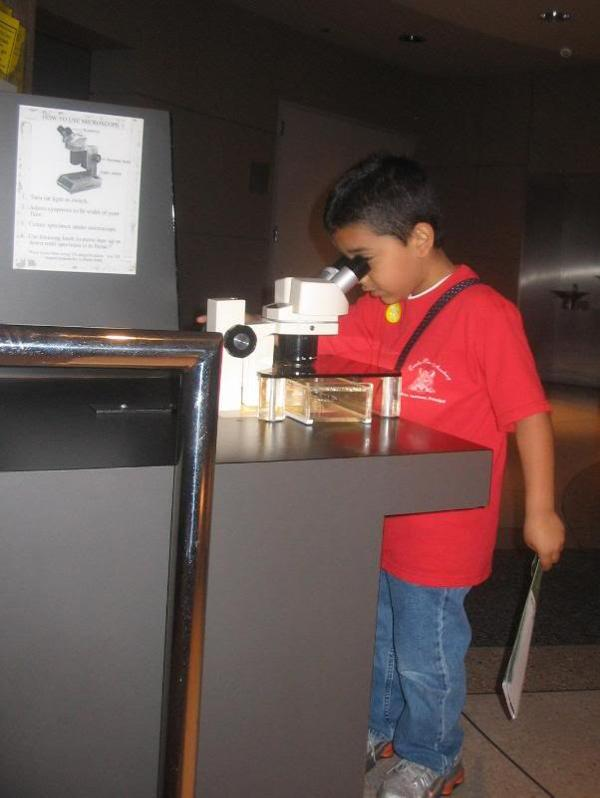person: (311, 150, 565, 794)
